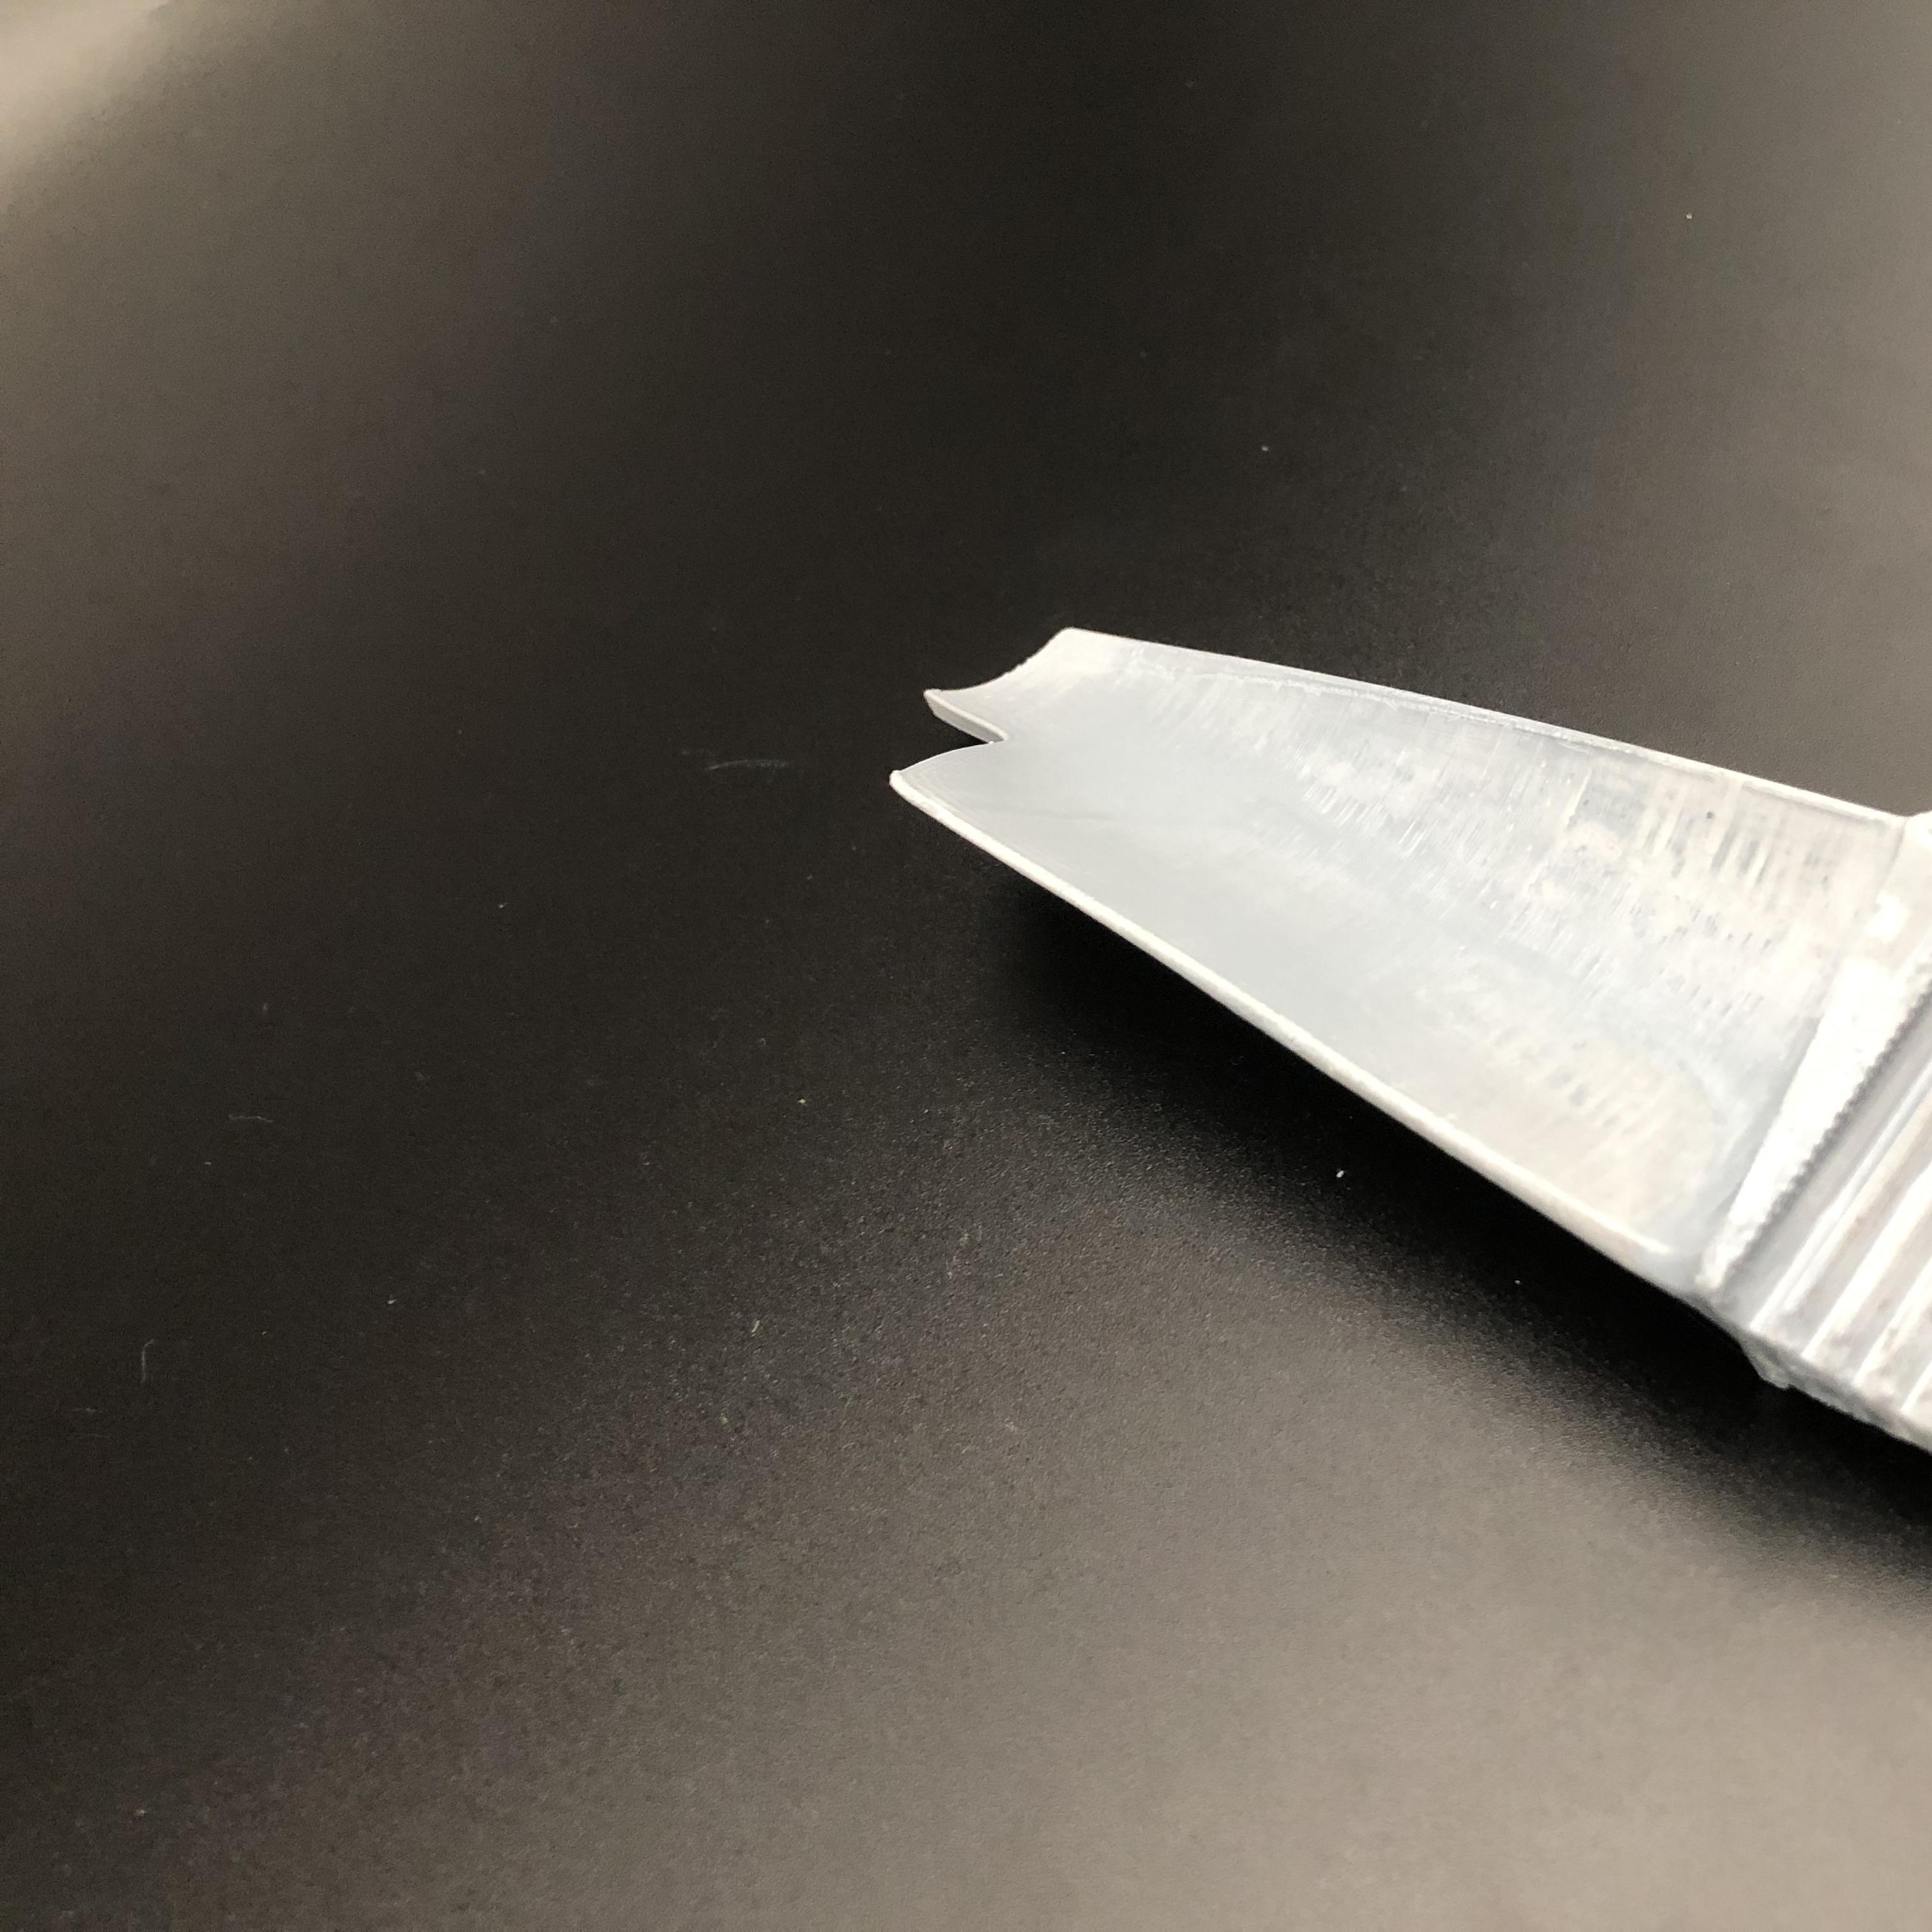fracture: (878, 690, 1024, 789)
